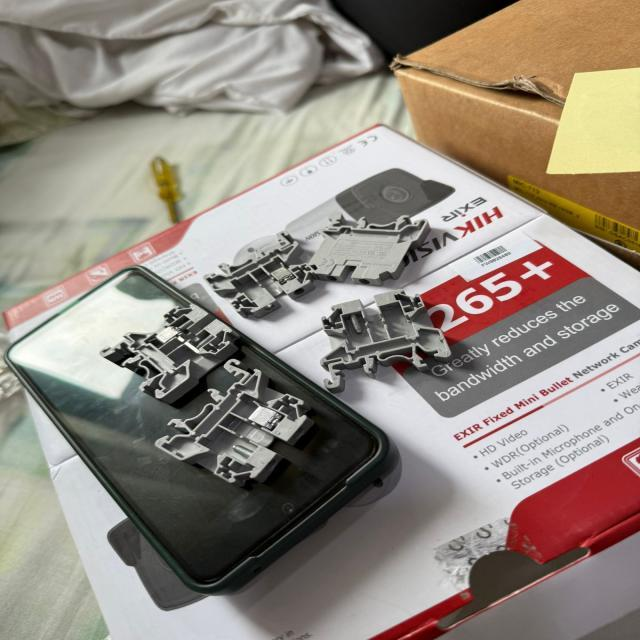Inverted: (308, 210, 430, 286)
Reject: (152, 356, 312, 484), (308, 286, 453, 391), (92, 300, 238, 404), (202, 230, 316, 316)
